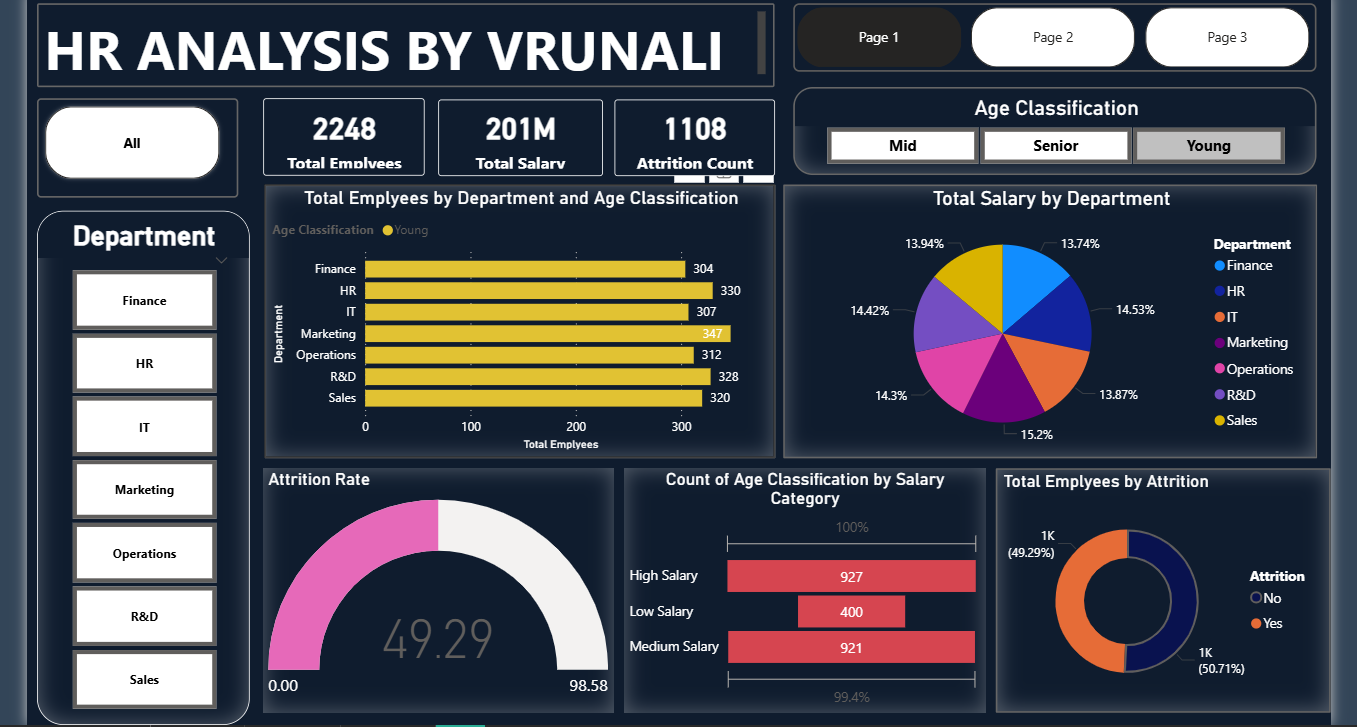

The page's visual inventory and layout, read from the dashboard file:
{"tool":"powerbi","page":{"name":"Page 1","canvas":[1280,720],"ordinal":0},"visuals":[{"type":"clusteredBarChart","fields":{"Category":["Employee_Data.Department"],"Y":["Employee_Data.M Total Emplyees"],"Series":["Employee_Data.Age Classification"]},"box":[232.6,189.1,501.3,268.7],"z":0},{"type":"bookmarkNavigator","box":[9.7,104.3,197.6,97.4],"z":1000},{"type":"slicer","title":"Department","fields":{"Values":["Employee_Data.Department"]},"box":[10,215.2,209,505],"z":2000},{"type":"slicer","title":"Age Classification","fields":{"Values":["Employee_Data.Age Classification"]},"box":[752.5,93.8,513.8,86.2],"z":3000},{"type":"pieChart","fields":{"Y":["Employee_Data.M Total Salary"],"Category":["Employee_Data.Department"]},"box":[742.6,189.1,523.7,268.7],"z":4000},{"type":"textbox","box":[10,11.2,723.8,82.5],"z":5000},{"type":"donutChart","fields":{"Category":["Employee_Data.Attrition"],"Y":["Employee_Data.M Total Emplyees"]},"box":[951.2,467.5,328.8,240],"z":6000},{"type":"gauge","fields":{"Y":["Employee_Data.Attribution Rate"]},"box":[232.5,467.5,343.8,240],"z":7000},{"type":"funnel","fields":{"Category":["Employee_Data.Salary Category"],"Y":["CountNonNull(Employee_Data.Age Classification)"]},"box":[586.2,467.5,355,240],"z":8000},{"type":"pageNavigator","box":[752.5,11.2,513.8,67.5],"z":9000},{"type":"card","fields":{"Values":["Employee_Data.Total Emplyees"]},"box":[232.5,103.8,158.8,76.2],"z":10000},{"type":"card","fields":{"Values":["Employee_Data.Total Salary"]},"box":[403.8,105,161.2,75],"z":11000},{"type":"card","fields":{"Values":["Employee_Data.Attrition Count"]},"box":[576.2,105,157.5,75],"z":12000}]}

Visuals, with their boxes on the page's 1280x720 design canvas (x1, y1, x2, y2). These are canvas units, not pixel positions in the 1357x727 screenshot, which may show the page scaled, cropped or inside an application window:
clusteredBarChart - Employee_Data.Department x Employee_Data.M Total Emplyees: [233, 189, 734, 458]
bookmarkNavigator: [10, 104, 207, 202]
"Department" slicer: [10, 215, 219, 720]
"Age Classification" slicer: [752, 94, 1266, 180]
pieChart - Employee_Data.M Total Salary x Employee_Data.Department: [743, 189, 1266, 458]
textbox: [10, 11, 734, 94]
donutChart - Employee_Data.Attrition x Employee_Data.M Total Emplyees: [951, 468, 1280, 708]
gauge - Employee_Data.Attribution Rate: [232, 468, 576, 708]
funnel - Employee_Data.Salary Category x CountNonNull(Employee_Data.Age Classification): [586, 468, 941, 708]
pageNavigator: [752, 11, 1266, 79]
card - Employee_Data.Total Emplyees: [232, 104, 391, 180]
card - Employee_Data.Total Salary: [404, 105, 565, 180]
card - Employee_Data.Attrition Count: [576, 105, 734, 180]
